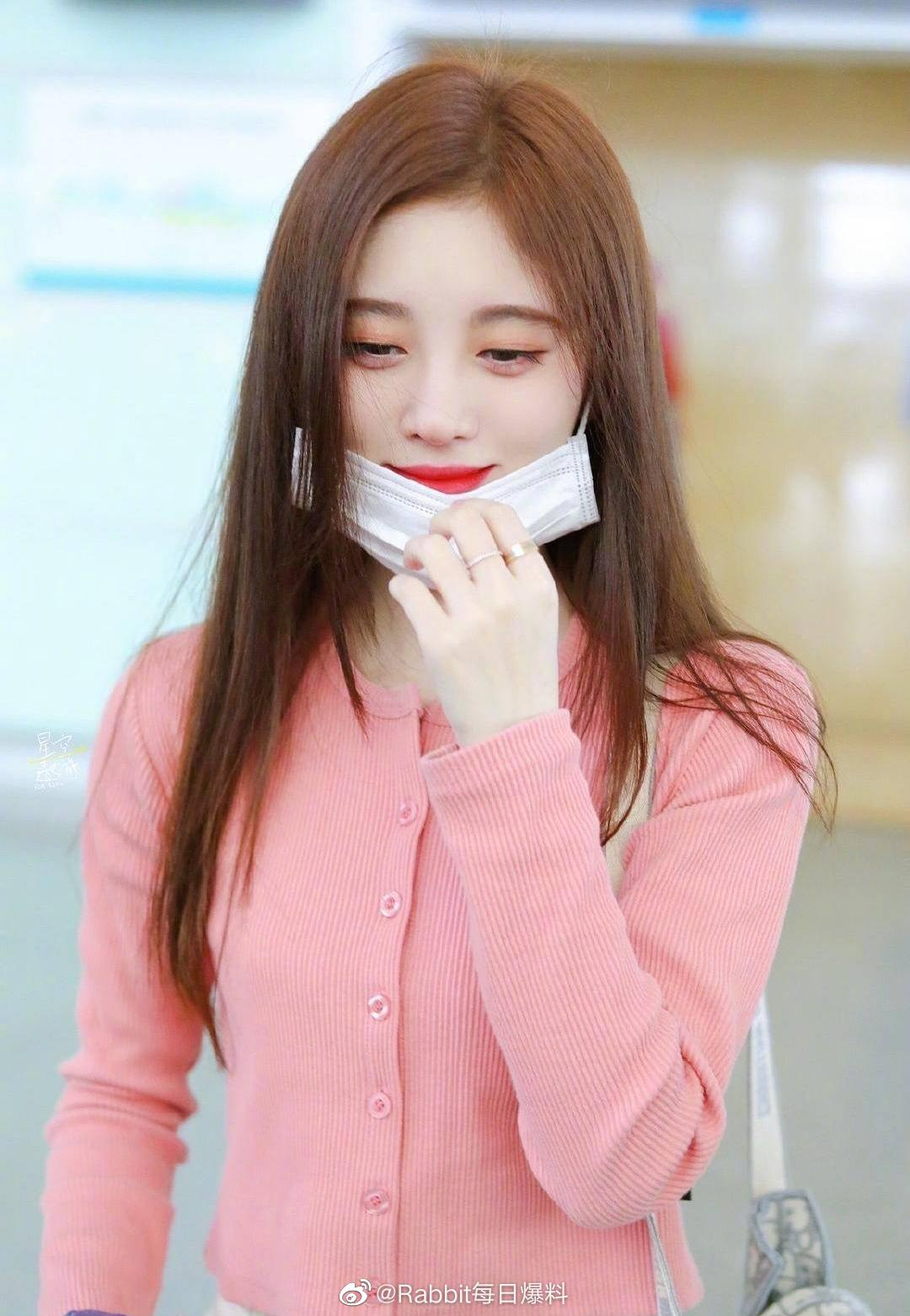WRONG: (325, 246, 581, 571)
